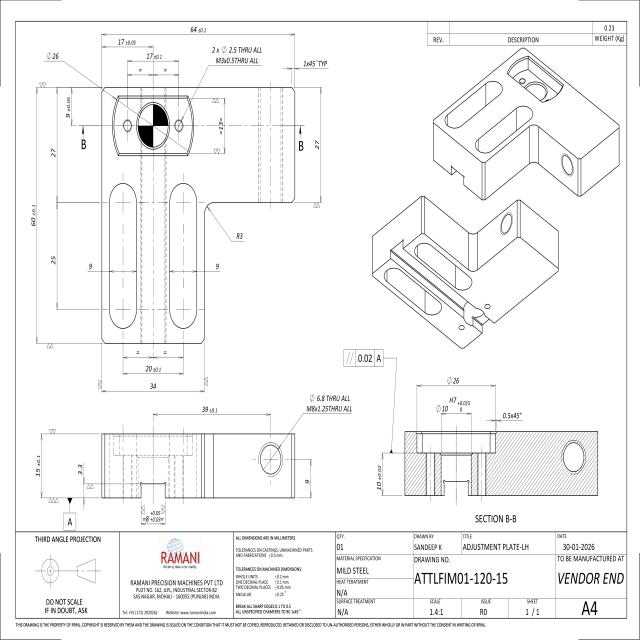dimension: (102, 22, 295, 41), (29, 86, 41, 344), (152, 403, 272, 420), (205, 204, 245, 243), (101, 379, 205, 394), (48, 86, 61, 203), (47, 202, 61, 310), (416, 372, 496, 390), (313, 86, 325, 203), (211, 42, 263, 66), (306, 392, 352, 414), (122, 362, 184, 378), (434, 394, 474, 418), (212, 97, 228, 155), (169, 260, 221, 276), (34, 432, 46, 499), (87, 260, 137, 276), (102, 36, 154, 51), (283, 57, 329, 73), (127, 51, 179, 65), (373, 452, 388, 498), (140, 505, 167, 528), (486, 409, 524, 425), (303, 457, 315, 500), (77, 460, 87, 510), (64, 87, 74, 127), (44, 49, 60, 62)
